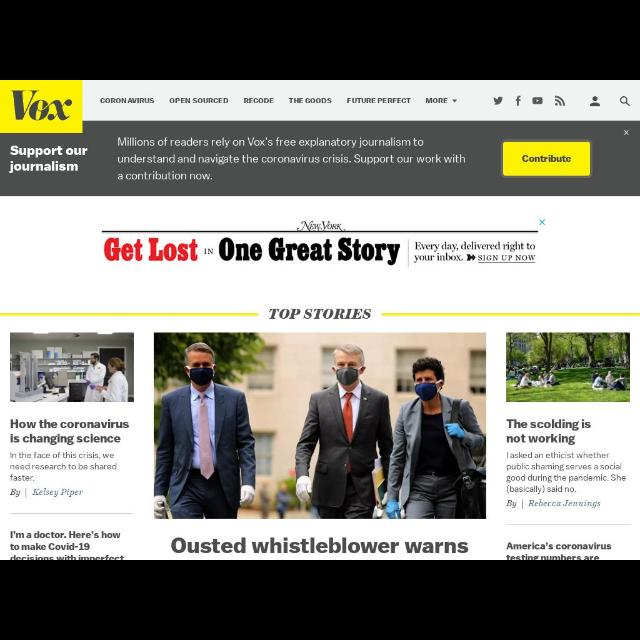icon: (554, 95, 566, 107), (590, 96, 600, 108), (620, 96, 630, 108), (492, 96, 503, 106), (532, 97, 544, 105), (514, 96, 522, 106), (452, 98, 458, 104), (623, 130, 629, 136)
iframe: (101, 219, 547, 267)
image: (155, 332, 487, 520), (10, 332, 134, 402), (507, 333, 631, 403), (1, 80, 83, 134)
panel: (1, 122, 640, 196)
spinner: (426, 98, 458, 104)
text: (117, 136, 466, 182), (171, 537, 469, 555), (506, 451, 626, 495), (9, 418, 129, 446), (8, 452, 118, 482), (10, 531, 126, 559), (506, 419, 592, 445), (10, 145, 88, 173), (506, 542, 612, 558), (268, 308, 372, 322), (506, 499, 600, 509), (10, 488, 84, 498), (522, 155, 572, 163), (346, 98, 412, 104), (170, 98, 228, 104), (100, 98, 156, 104), (288, 98, 332, 104), (243, 96, 274, 104), (426, 98, 448, 104)
textbutton: (502, 140, 592, 178)
toolbar: (1, 80, 640, 120)
